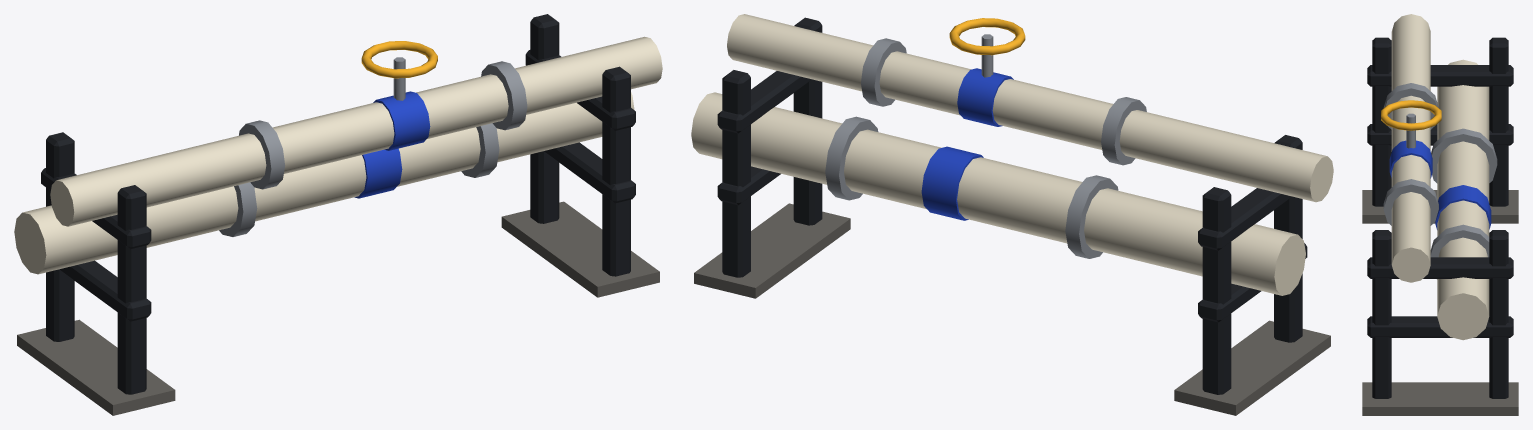
The model's file is pipe.glb.
3 renders of one model, left to right at view 1: azimuth 30°, elevation 25°; view 2: azimuth 150°, elevation 25°; view 3: azimuth 270°, elevation 25°, orthographic. The views are drawn at different scales.
Parts seen in each view (by area): view 1: pipe_mesh; view 2: pipe_mesh; view 3: pipe_mesh.
Boxes of the visible parts, <box> form: pipe_mesh: <box>14,14,662,415</box>; pipe_mesh: <box>691,14,1333,415</box>; pipe_mesh: <box>1362,14,1518,415</box>.
Bounding box in the file's own units: 3.4 × 1.44 × 0.96.
